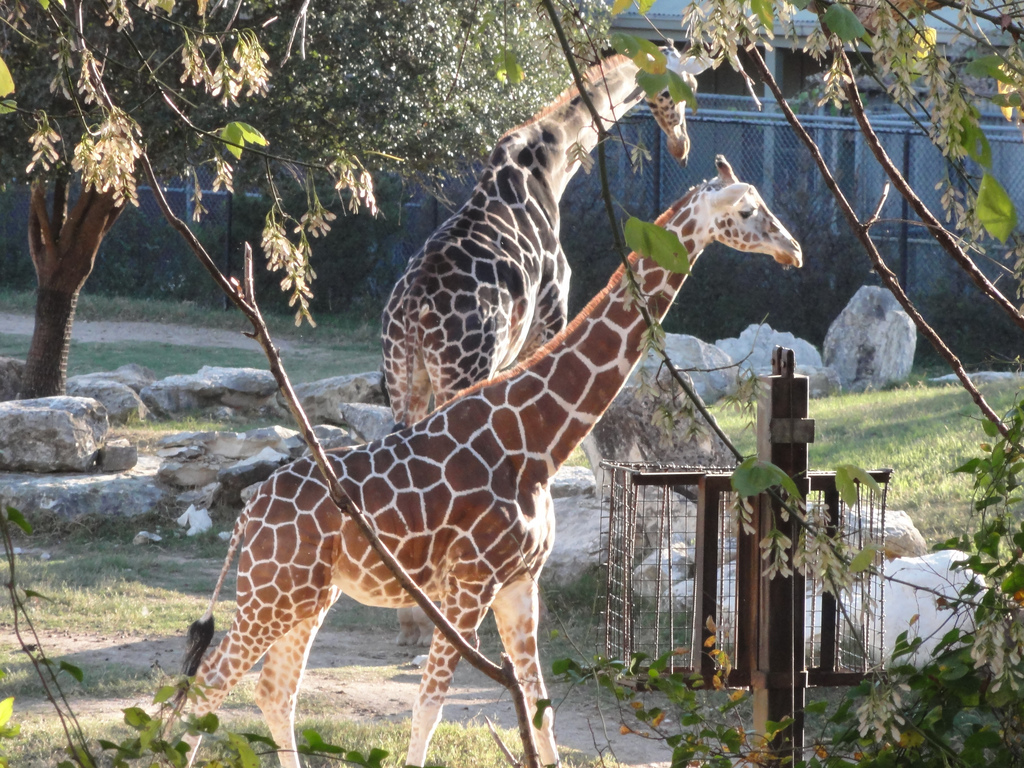giraffe: (190, 179, 795, 736), (390, 18, 708, 442)
